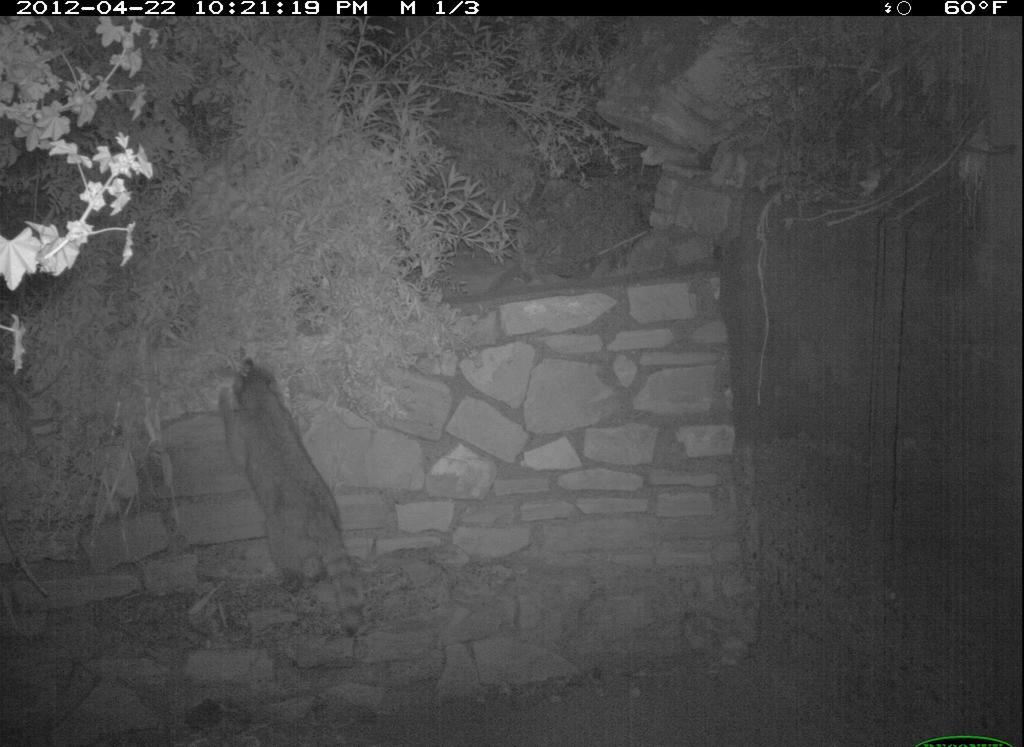raccoon: (218, 355, 373, 641)
